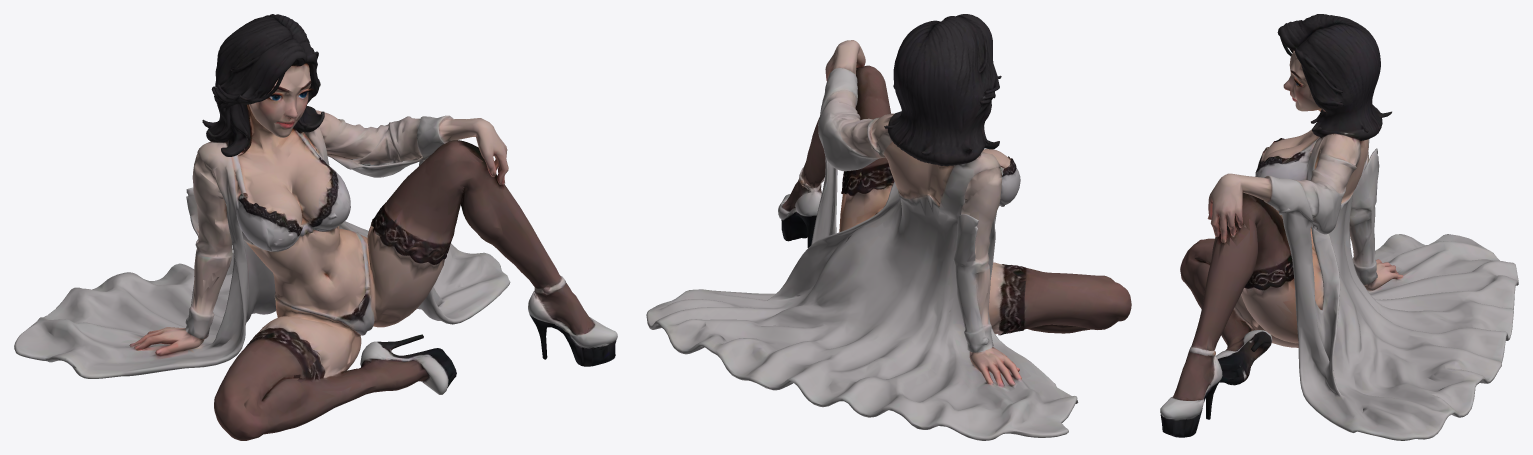
The model's file is Girl_Bed.glb.
3 renders of one model, left to right at view 1: azimuth 30°, elevation 25°; view 2: azimuth 150°, elevation 25°; view 3: azimuth 270°, elevation 25°, orthographic. The views are drawn at different scales.
Parts seen in each view (by area): view 1: Girl_Bed; view 2: Girl_Bed; view 3: Girl_Bed.
Boxes of the visible parts, x1=… form: Girl_Bed: x1=14, y1=14, x2=617, y2=440; Girl_Bed: x1=646, y1=14, x2=1131, y2=440; Girl_Bed: x1=1160, y1=14, x2=1518, y2=440.
Size of the model in its own units: 1.55 by 1.13 by 1.16.
Materials: 1 (1 with a texture image).
